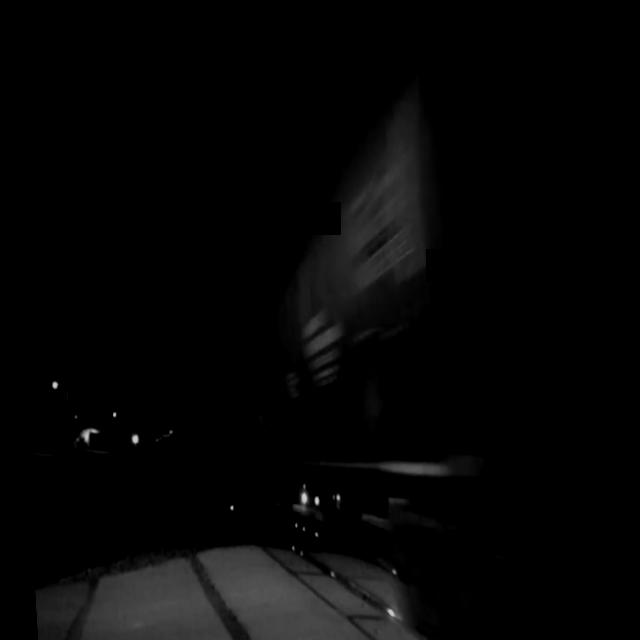tank: (175, 11, 640, 640)
